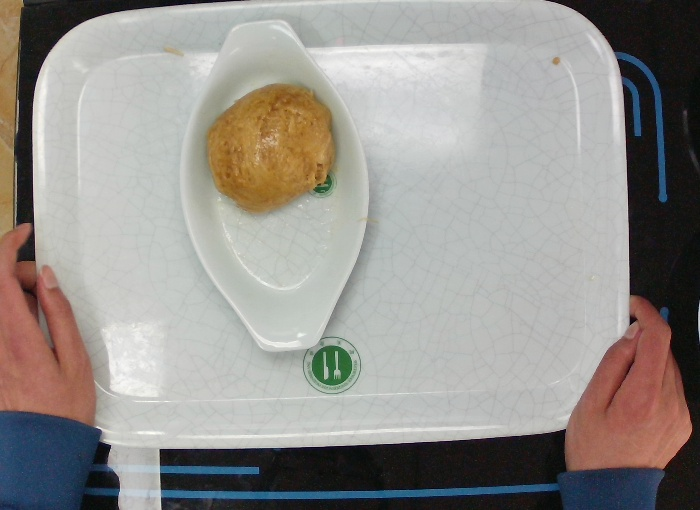JYsf-Yu_Pan: (171, 15, 371, 357)
